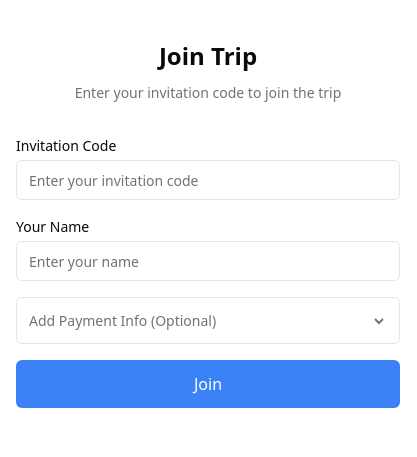
JoinPage › submission › should show error on invalid token
Type "invalid" into the field labelled "Invitation Code" at [208, 180], box [16,160,400,200]
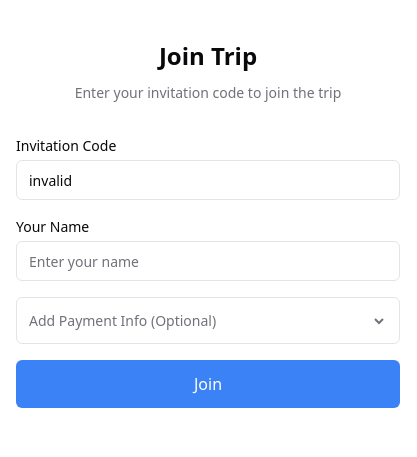
Type "John Doe" into the field labelled "Your Name" at [208, 261], box [16,241,400,281]
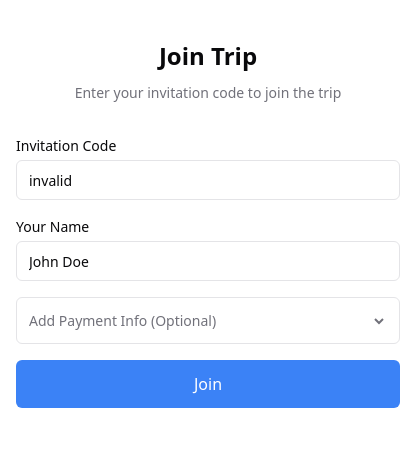
Click the button "Join" at [208, 384], box [16,360,400,408]
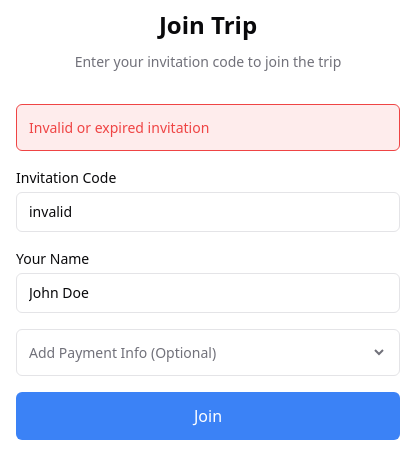
Check: the text "Invalid or expired invitation" is shown, box [16,104,400,150]
